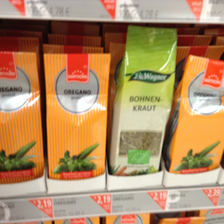spices: (109, 25, 178, 175), (44, 52, 106, 180), (167, 55, 224, 174), (1, 52, 44, 185)
